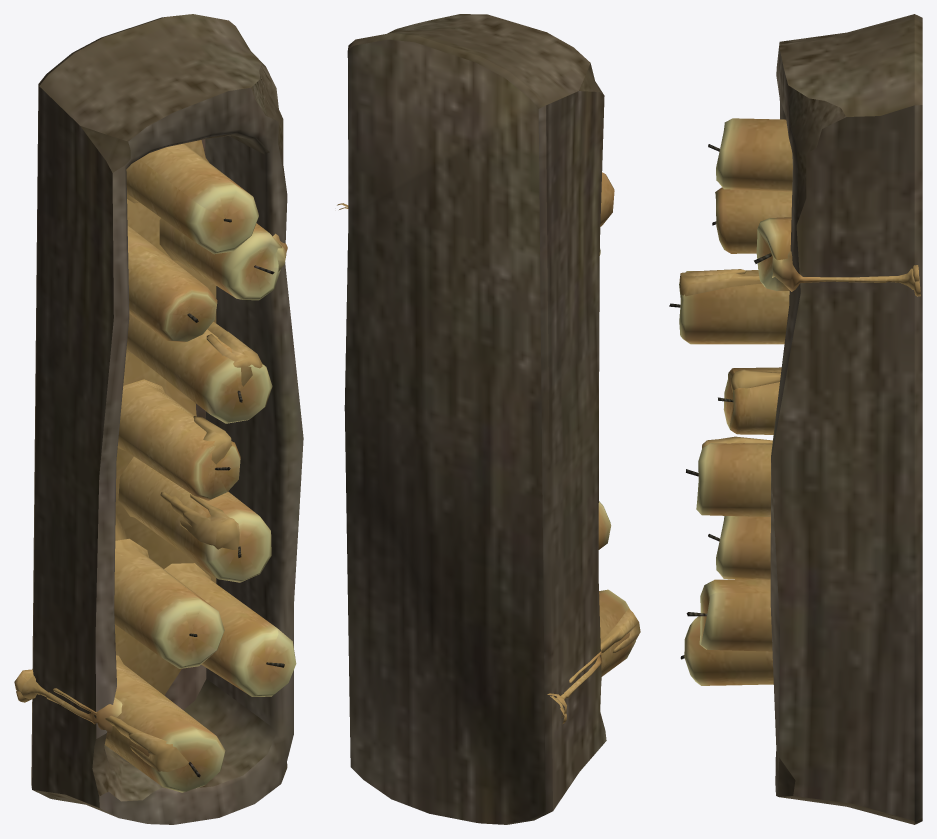
File: VIK_PRO_Candle_Group_Medium_01A_LOD0-transformed.glb
3 views of the same model, side by side, from view 1: azimuth 30°, elevation 25°; view 2: azimuth 150°, elevation 25°; view 3: azimuth 270°, elevation 25° (orthographic).
Visible parts, largest first — view 1: VIK_PRO_Candle_Group_Medium_01A_LOD0; view 2: VIK_PRO_Candle_Group_Medium_01A_LOD0; view 3: VIK_PRO_Candle_Group_Medium_01A_LOD0.
Part boxes in pixels (x1=…): VIK_PRO_Candle_Group_Medium_01A_LOD0: x1=14, y1=14, x2=303, y2=824; VIK_PRO_Candle_Group_Medium_01A_LOD0: x1=337, y1=14, x2=640, y2=824; VIK_PRO_Candle_Group_Medium_01A_LOD0: x1=669, y1=14, x2=922, y2=824.
Bounding box in the file's own units: 0.00285 × 0.00905 × 0.00269.
Materials: 2 (2 with a texture image).
